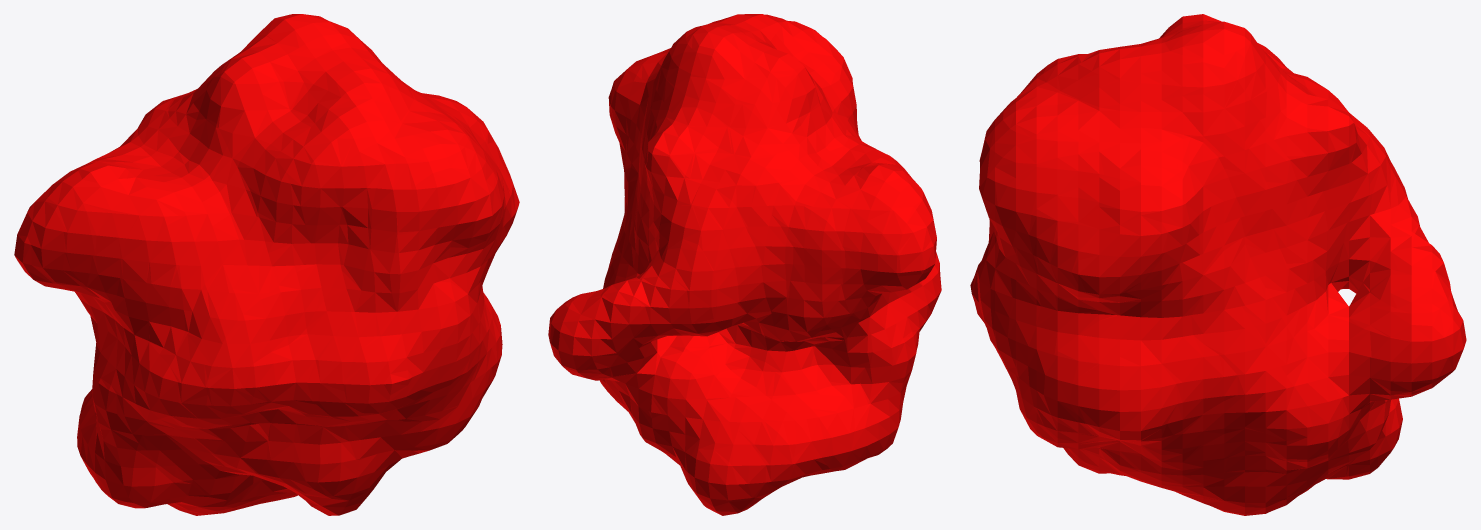
The model's file is fadA_coarse.dae.
3 views of the same model, side by side, from view 1: azimuth 30°, elevation 25°; view 2: azimuth 150°, elevation 25°; view 3: azimuth 270°, elevation 25° (orthographic). The views are drawn at different scales.
Visible parts, largest first — view 1: fadA; view 2: fadA; view 3: fadA.
Part boxes in pixels (box(x1,y1,x2,y2)): fadA: box(14, 14, 519, 515); fadA: box(548, 14, 941, 515); fadA: box(970, 14, 1466, 515).
Size of the model in its own units: 56.15 by 61.39 by 56.62.
